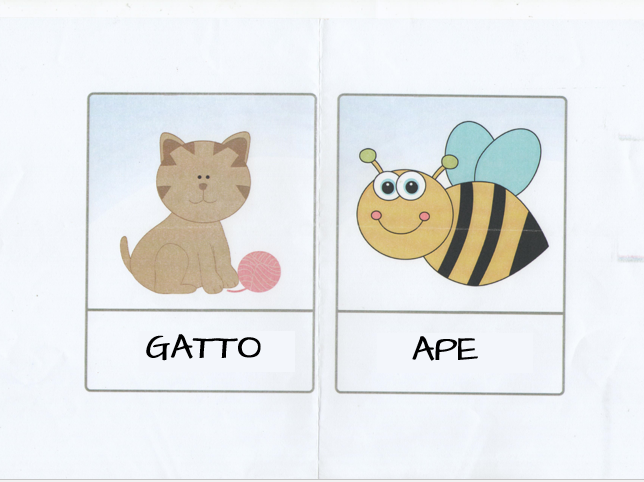ape: (339, 98, 555, 384)
gatto: (90, 101, 310, 388)
